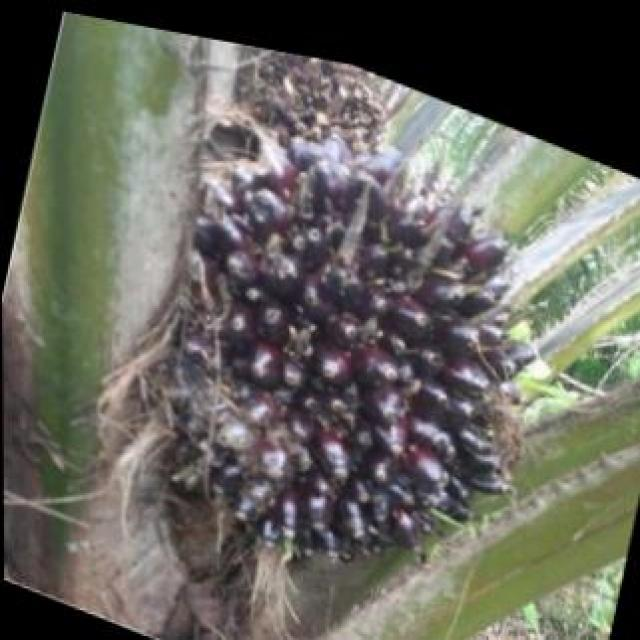Unripe: (128, 56, 568, 626)
